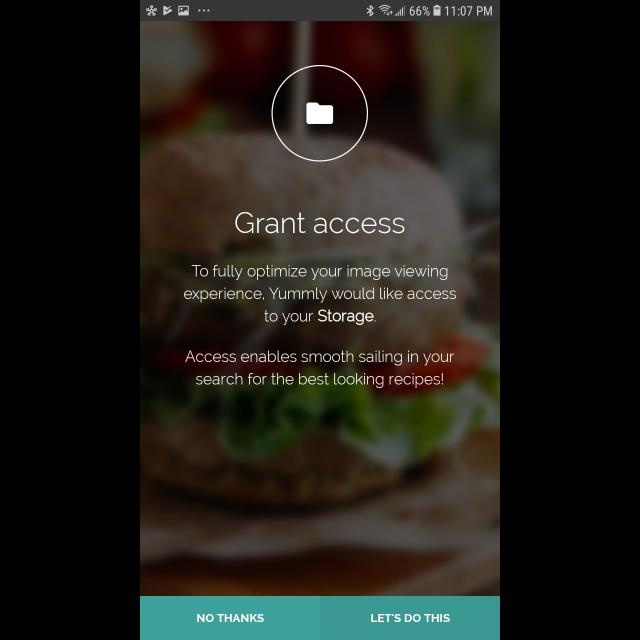backgroundimage: (140, 22, 500, 596)
image: (272, 66, 368, 162)
text: (184, 264, 456, 326), (186, 350, 454, 388), (235, 212, 405, 234)
textbutton: (141, 596, 321, 640), (322, 596, 500, 640)
uppertaskbar: (140, 1, 500, 22)
